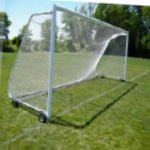goals: (8, 4, 130, 119)
